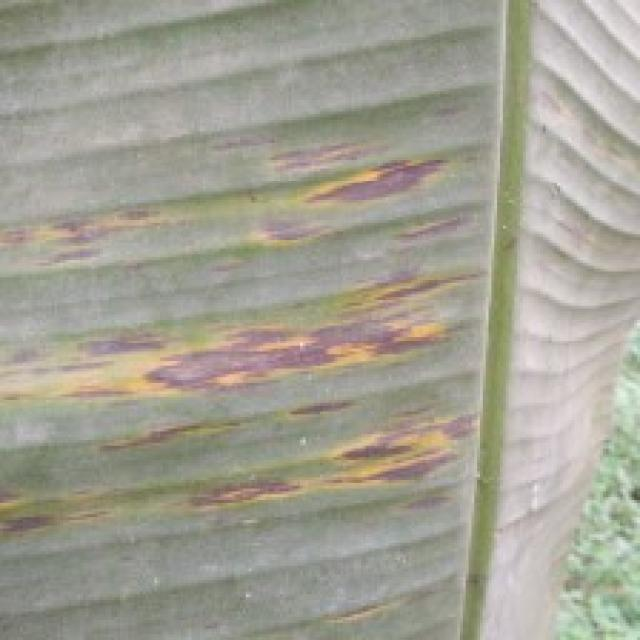Early_leaf_spot: (0, 118, 495, 551), (312, 574, 432, 640)
